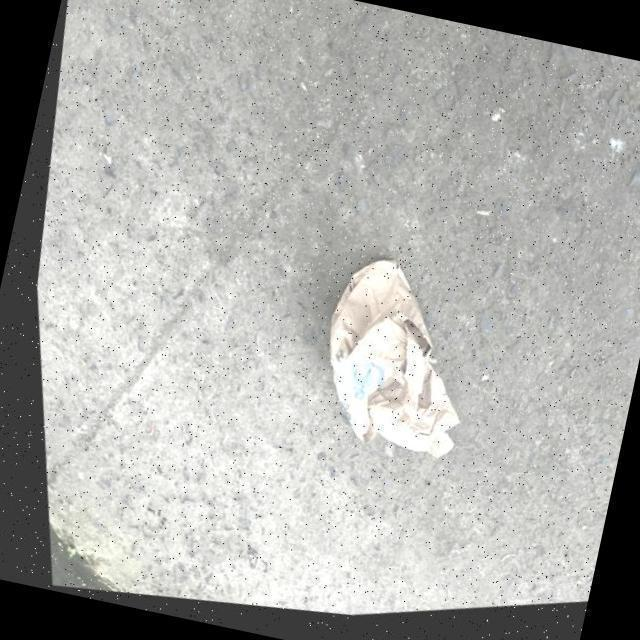Paper_Bag: (278, 237, 493, 500)
